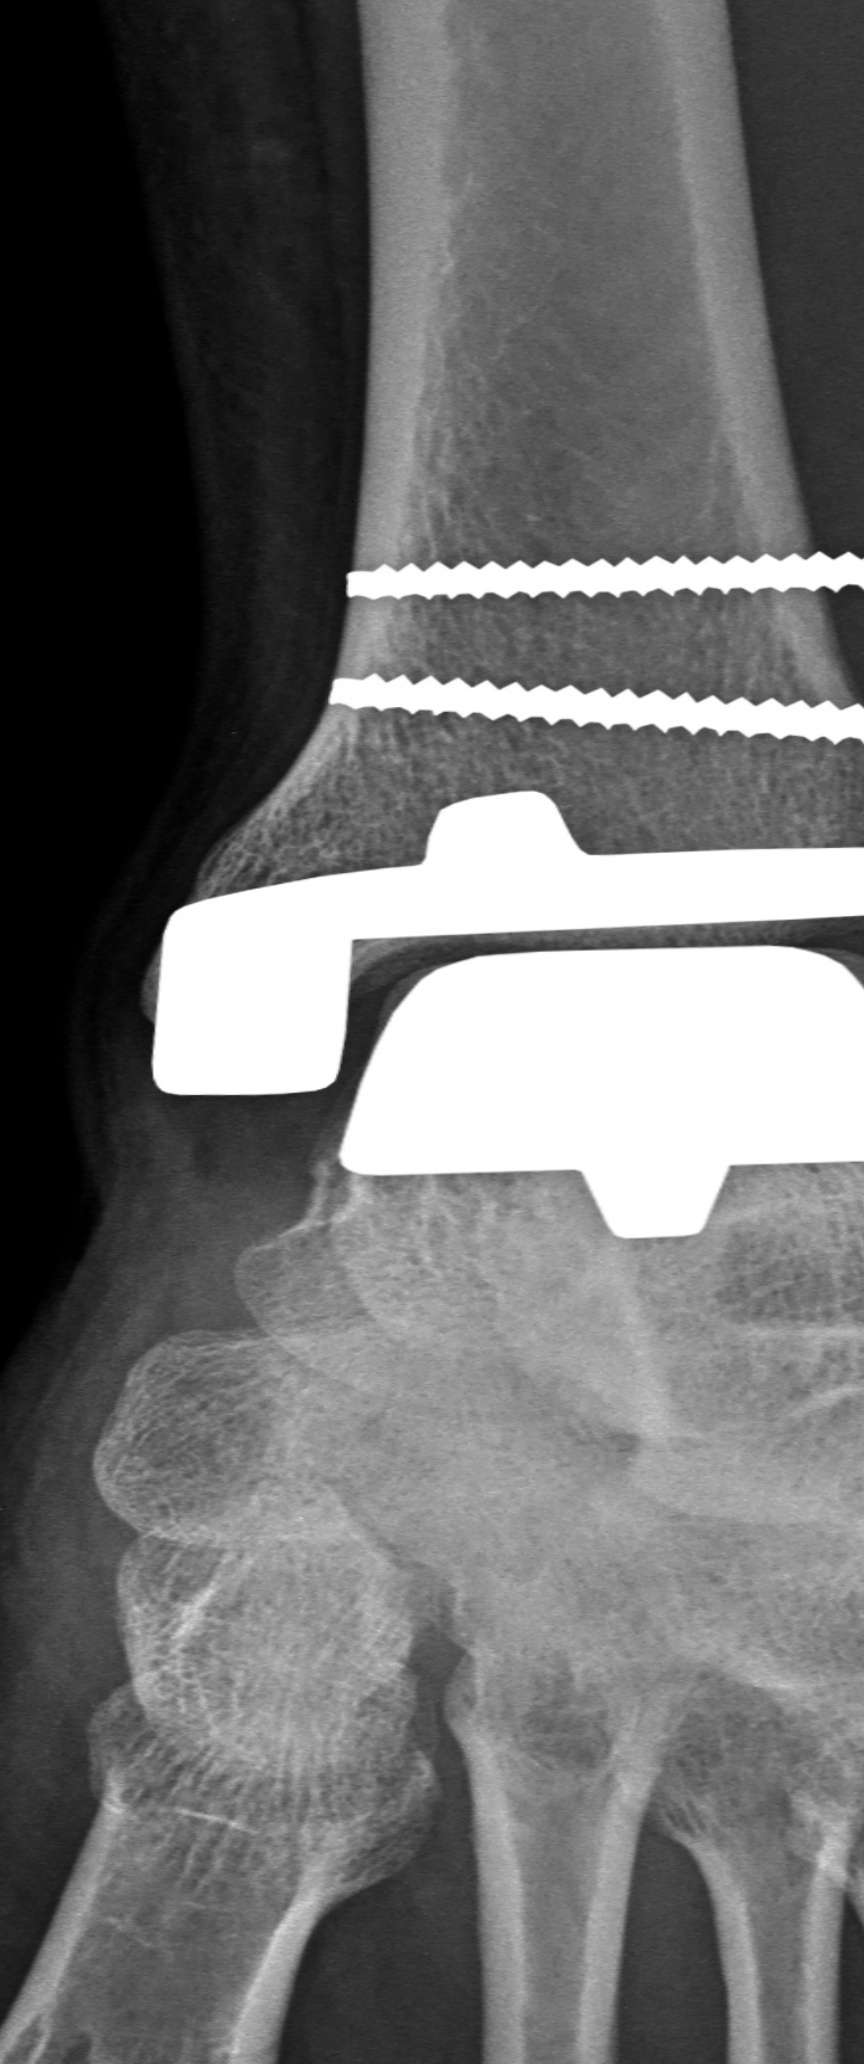Ankle - Agility - DePuy: (105, 529, 863, 1253)
